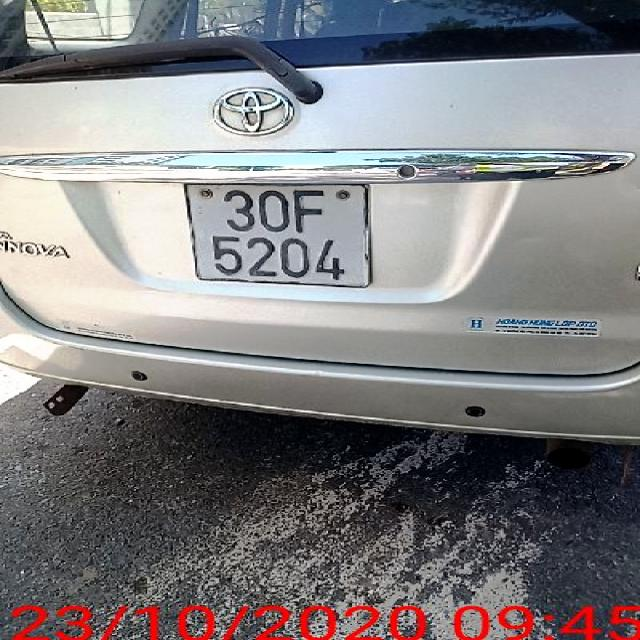license_plate: (184, 182, 374, 287)
